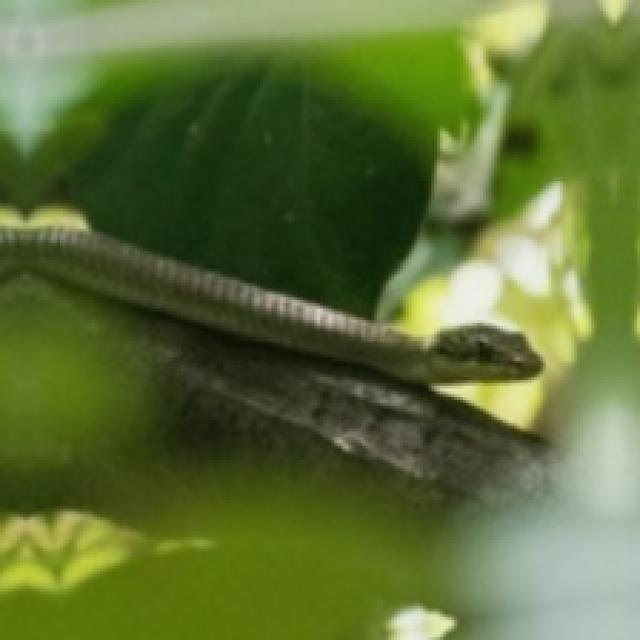paradise tree snake: (0, 229, 540, 380)
